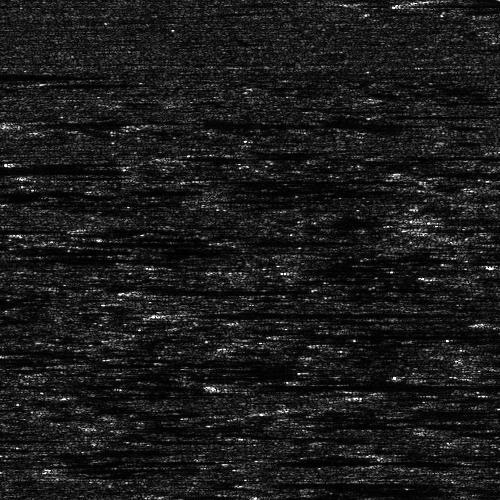object: (156, 378, 291, 393), (4, 238, 97, 247), (134, 307, 227, 316), (463, 333, 500, 354), (0, 117, 70, 126), (0, 240, 22, 259), (436, 456, 499, 461), (475, 181, 500, 192), (56, 226, 109, 231), (252, 457, 283, 464), (144, 121, 185, 126), (0, 160, 11, 177), (219, 240, 250, 243)
shadow: (223, 378, 500, 393), (0, 160, 215, 177), (0, 240, 176, 259), (181, 307, 468, 316), (268, 457, 500, 464), (51, 238, 208, 247), (24, 117, 173, 126), (0, 159, 85, 174), (165, 121, 374, 126), (82, 226, 188, 231), (235, 240, 346, 243), (468, 456, 500, 461)
